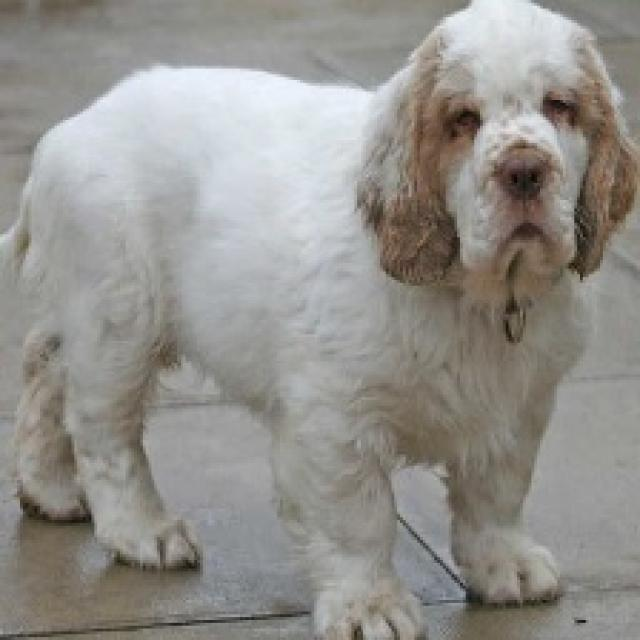cho khoe manh: (0, 0, 640, 583)
